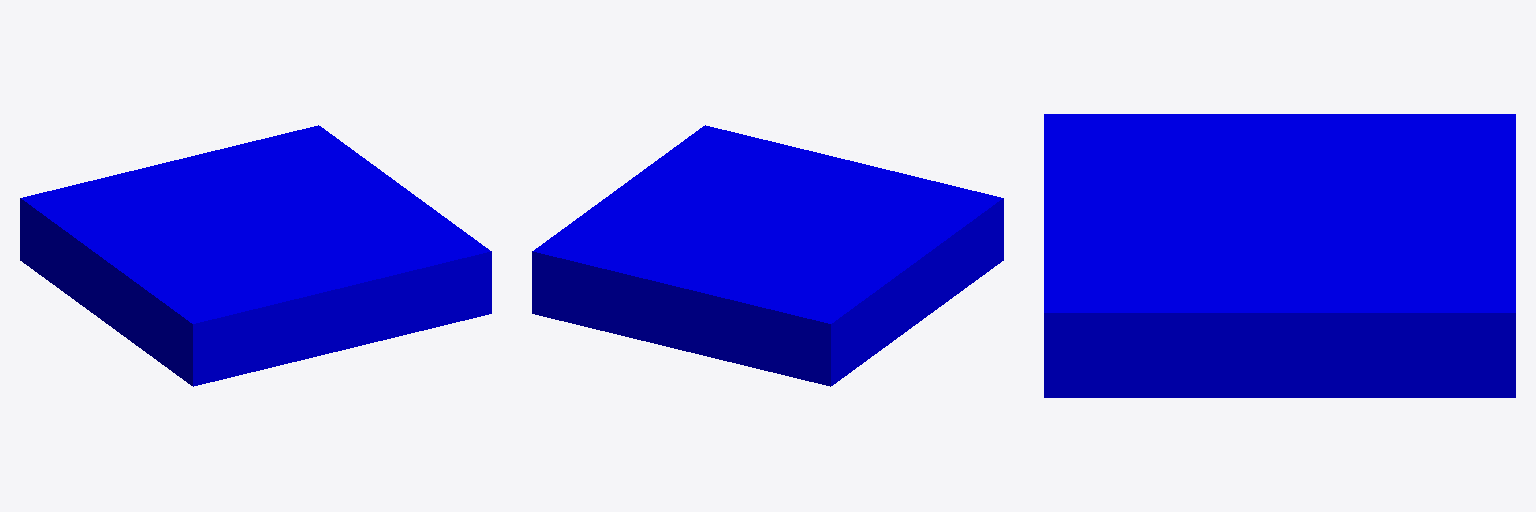
The robot description file, URDF, robot "sink":
<?xml version="1.0"?>
<robot name="sink">
  <link name="base_link">
    <visual>
      <origin xyz="0 0 0.025" rpy="0 0 0" />
      <geometry>
        <box size="0.25 0.25 0.05" />
      </geometry>
      <material name="blue">
        <color rgba="0 0 1 1" />
      </material>
    </visual>
    <collision>
      <origin xyz="0 0 0" rpy="0 0 0" />
      <geometry>
        <mesh filename="file://[local-path]/ros_devel_ws/src/learn_affordance_tamp/tamp/examples/pybullet/utils/models/meiying_sink.obj" />
      </geometry>
    </collision>
  </link>
</robot>

--- What the picture shows (computed from the rendered views, not written in the file) ---
Views: 3 orthographic renders of the robot side by side, from view 1: azimuth 30°, elevation 25°; view 2: azimuth 150°, elevation 25°; view 3: azimuth 270°, elevation 25°.
Model sink with 1 links and 0 joints (none), rooted at base_link, posed every joint at zero.
Links seen in each view (by area): view 1: base_link; view 2: base_link; view 3: base_link.
Link boxes in pixels (x1=…): base_link: x1=20, y1=125, x2=491, y2=386; base_link: x1=532, y1=125, x2=1003, y2=386; base_link: x1=1044, y1=114, x2=1515, y2=397.
Bounding box of the posed robot: 0.25 × 0.25 × 0.05 m (x, y, z).
Geometry: primitives only (box / cylinder / sphere), no mesh files.
